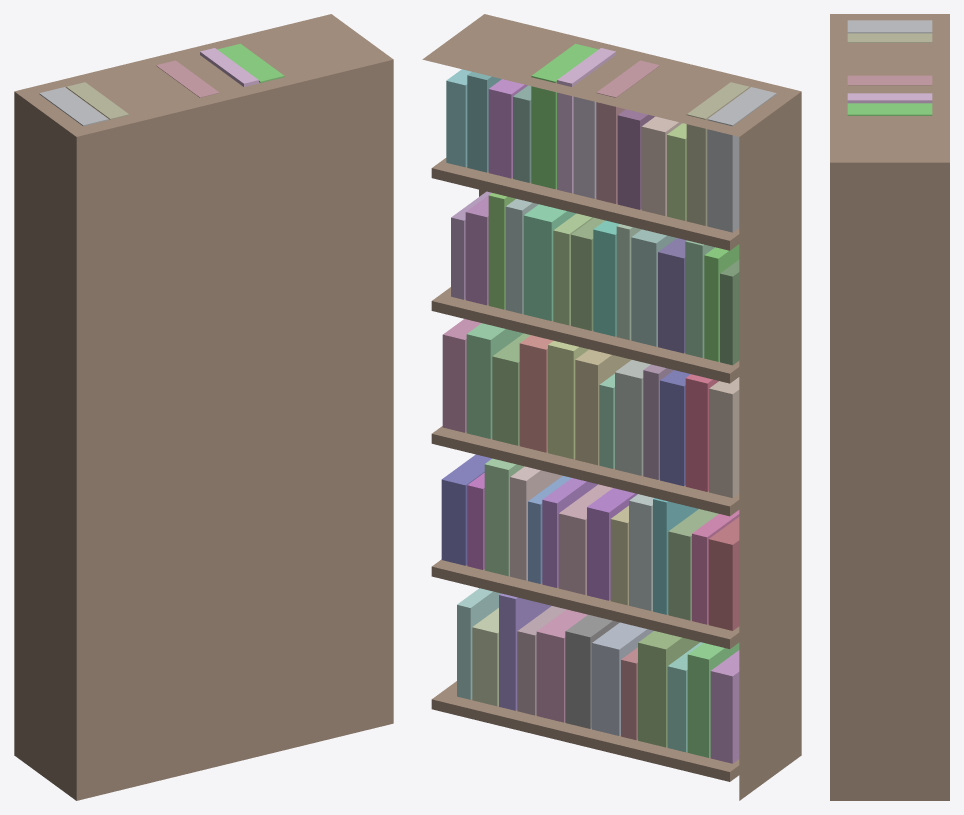
The model's file is bookshelf.gltf.
3 renders of one model, left to right at view 1: azimuth 30°, elevation 25°; view 2: azimuth 150°, elevation 25°; view 3: azimuth 270°, elevation 25°, orthographic. The views are drawn at different scales.
Visible parts, largest first — view 1: bookshelf; view 2: bookshelf; view 3: bookshelf.
Boxes of the visible parts, bbox=[...] form: bookshelf: bbox=[14, 14, 393, 800]; bookshelf: bbox=[422, 14, 801, 800]; bookshelf: bbox=[830, 14, 949, 800].
Bounding box in the file's own units: 1 × 2.01 × 0.34.
